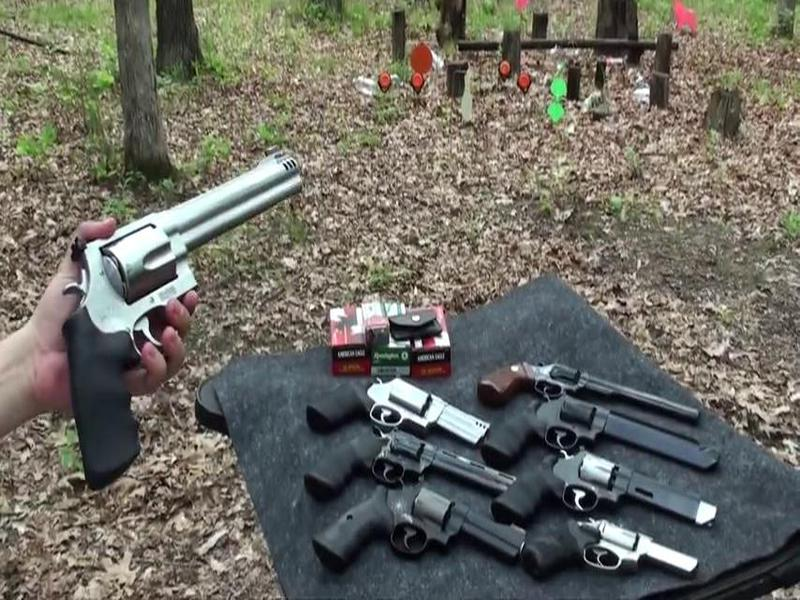Revolver: (62, 140, 279, 484)
